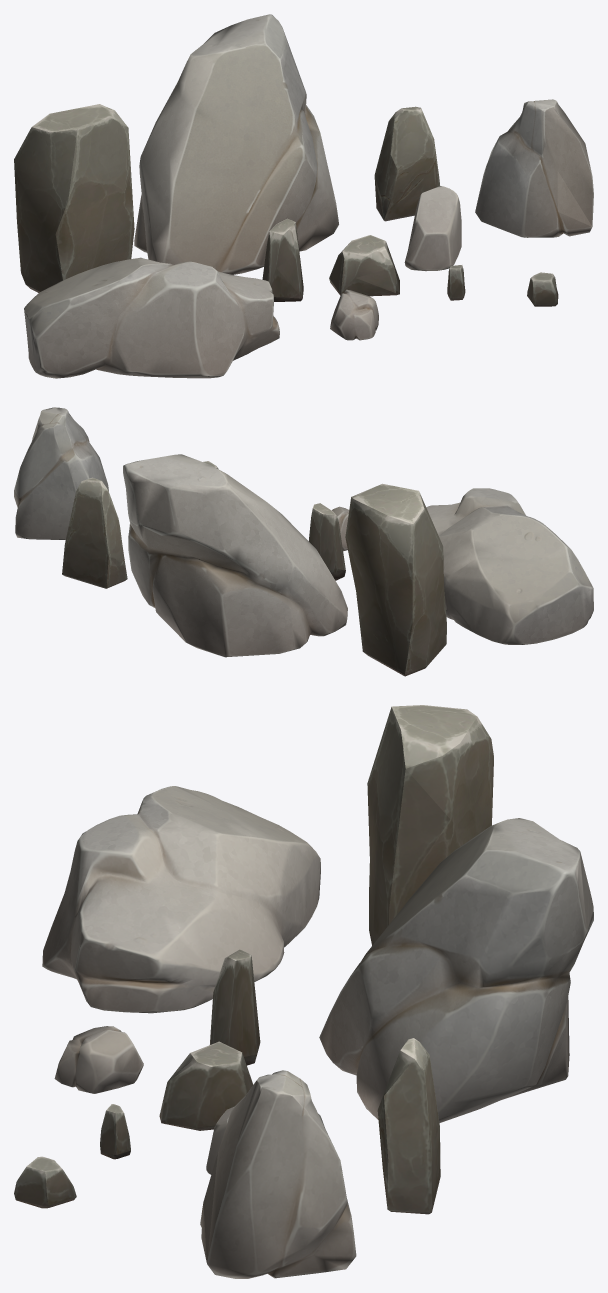
File: rocks.glb
3 views of the same model, one above another, from view 1: azimuth 30°, elevation 25°; view 2: azimuth 150°, elevation 25°; view 3: azimuth 270°, elevation 25° (orthographic). The views are drawn at different scales.
Visible parts, largest first — view 1: SM_Rocks_04, SM_Rocks_03, SM_Rocks_09, SM_Rocks_05, SM_Rocks_08, SM_Rocks_02, SM_Rocks_07, SM_Rocks_11, SM_Rocks_01, SM_Rocks_06, SM_Rocks_10; view 2: SM_Rocks_04, SM_Rocks_03, SM_Rocks_09, SM_Rocks_05, SM_Rocks_08, SM_Rocks_11, SM_Rocks_01; view 3: SM_Rocks_04, SM_Rocks_03, SM_Rocks_05, SM_Rocks_09, SM_Rocks_08, SM_Rocks_07, SM_Rocks_01, SM_Rocks_11, SM_Rocks_06, SM_Rocks_10.
Part boxes in pixels (left/top/right/bottom): SM_Rocks_04: left=134, top=14, right=338, bottom=274; SM_Rocks_03: left=24, top=257, right=279, bottom=378; SM_Rocks_09: left=14, top=104, right=134, bottom=292; SM_Rocks_05: left=475, top=99, right=593, bottom=237; SM_Rocks_08: left=374, top=106, right=439, bottom=221; SM_Rocks_02: left=404, top=186, right=461, bottom=271; SM_Rocks_07: left=329, top=235, right=399, bottom=296; SM_Rocks_11: left=262, top=218, right=303, bottom=301; SM_Rocks_01: left=330, top=289, right=378, bottom=340; SM_Rocks_06: left=527, top=272, right=558, bottom=306; SM_Rocks_10: left=447, top=265, right=465, bottom=300; SM_Rocks_04: left=123, top=454, right=347, bottom=657; SM_Rocks_03: left=426, top=488, right=593, bottom=644; SM_Rocks_09: left=345, top=483, right=446, bottom=676; SM_Rocks_05: left=14, top=407, right=108, bottom=539; SM_Rocks_08: left=62, top=477, right=127, bottom=588; SM_Rocks_11: left=308, top=503, right=345, bottom=580; SM_Rocks_01: left=332, top=506, right=349, bottom=551; SM_Rocks_04: left=319, top=818, right=593, bottom=1122; SM_Rocks_03: left=42, top=786, right=320, bottom=1013; SM_Rocks_05: left=200, top=1070, right=356, bottom=1278; SM_Rocks_09: left=367, top=705, right=493, bottom=945; SM_Rocks_08: left=377, top=1038, right=440, bottom=1214; SM_Rocks_07: left=159, top=1041, right=253, bottom=1130; SM_Rocks_01: left=54, top=1026, right=143, bottom=1093; SM_Rocks_11: left=210, top=949, right=260, bottom=1065; SM_Rocks_06: left=14, top=1156, right=76, bottom=1208; SM_Rocks_10: left=100, top=1104, right=130, bottom=1159.
Bounding box in the file's own units: 5.59 × 1.7 × 3.35.
1 material, 1 textured.
